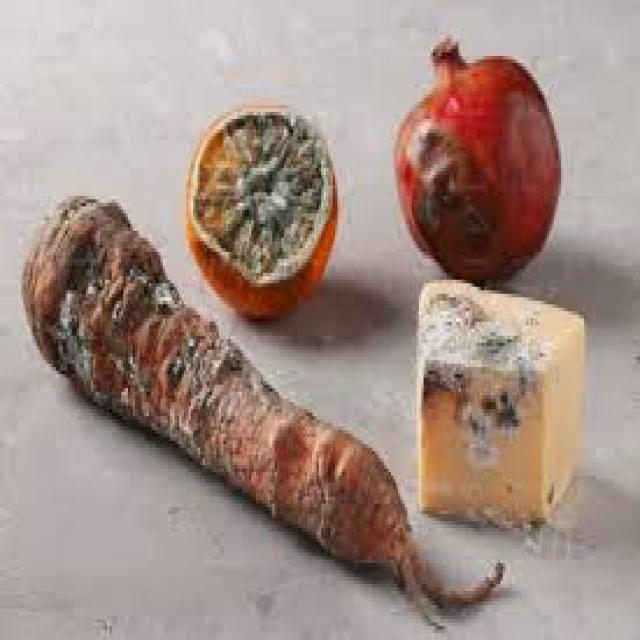organic waste: (19, 192, 500, 612), (414, 276, 582, 525), (391, 35, 559, 280), (182, 98, 335, 318)
